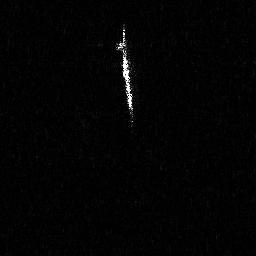ship: (115, 22, 138, 129)
